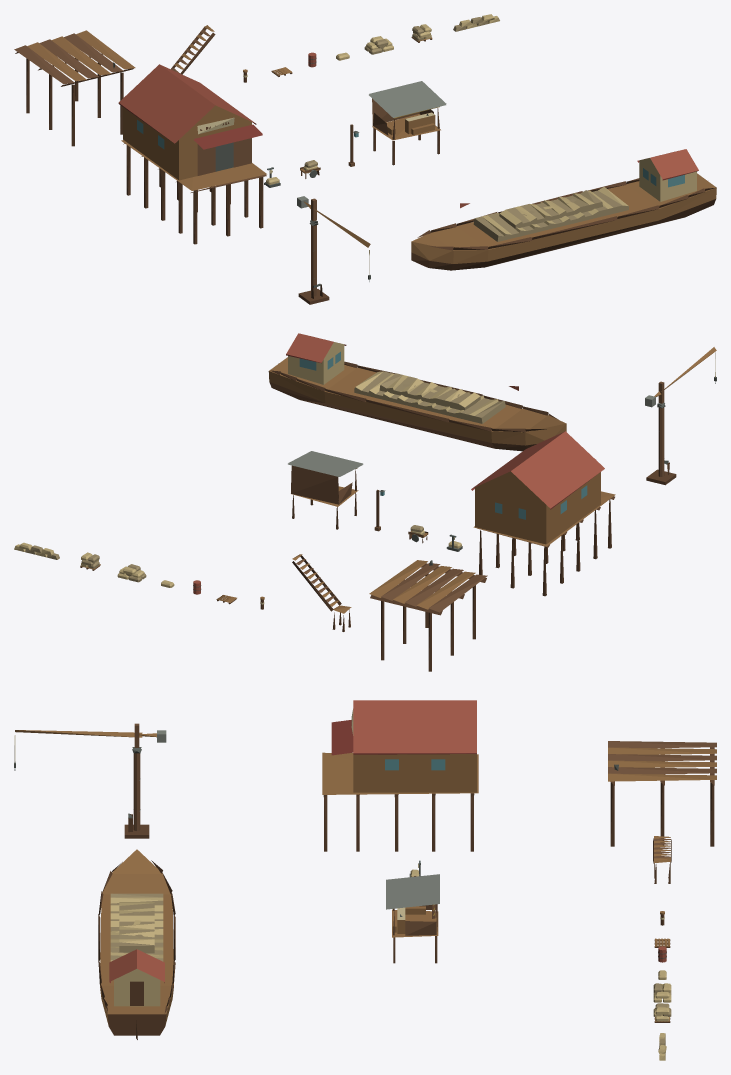
File: riverside-dermaga-kit-low.glb
3 views of the same model, one above another, from view 1: azimuth 30°, elevation 25°; view 2: azimuth 150°, elevation 25°; view 3: azimuth 270°, elevation 25° (orthographic). The views are drawn at different scales.
Visible parts, largest first — view 1: GEO-gudang-panggung, GEO-tongkang-kayu, GEO-dermaga-deck-6m, GEO-tongkang-cargo, GEO-warung-kopi, GEO-derek-kayu, GEO-dermaga-steps, GEO-derek-arm; view 2: GEO-gudang-panggung, GEO-tongkang-kayu, GEO-dermaga-deck-6m, GEO-tongkang-cargo, GEO-warung-kopi, GEO-dermaga-steps, GEO-derek-kayu; view 3: GEO-gudang-panggung, GEO-tongkang-kayu, GEO-dermaga-deck-6m, GEO-tongkang-cargo, GEO-warung-kopi, GEO-derek-kayu, GEO-derek-arm, GEO-dermaga-steps.
Part boxes in pixels (x1,y1,x2,y2): GEO-gudang-panggung: (118, 64, 266, 244); GEO-tongkang-kayu: (411, 149, 716, 270); GEO-dermaga-deck-6m: (14, 30, 135, 146); GEO-tongkang-cargo: (473, 187, 628, 241); GEO-warung-kopi: (369, 81, 446, 165); GEO-derek-kayu: (298, 221, 329, 304); GEO-dermaga-steps: (171, 25, 215, 74); GEO-derek-arm: (297, 196, 370, 247); GEO-gudang-panggung: (471, 431, 615, 596); GEO-tongkang-kayu: (268, 333, 566, 451); GEO-dermaga-deck-6m: (369, 560, 487, 671); GEO-tongkang-cargo: (354, 371, 505, 423); GEO-warung-kopi: (288, 451, 363, 529); GEO-dermaga-steps: (292, 554, 351, 631); GEO-derek-kayu: (646, 403, 676, 485); GEO-gudang-panggung: (322, 700, 478, 851); GEO-tongkang-kayu: (98, 849, 175, 1039); GEO-dermaga-deck-6m: (608, 741, 716, 846); GEO-tongkang-cargo: (110, 893, 163, 961); GEO-warung-kopi: (386, 874, 439, 963); GEO-derek-kayu: (124, 749, 149, 838); GEO-derek-arm: (15, 723, 166, 750); GEO-dermaga-steps: (653, 836, 671, 883).
Size of the model in its own units: 38.18 by 9.5 by 45.49.
